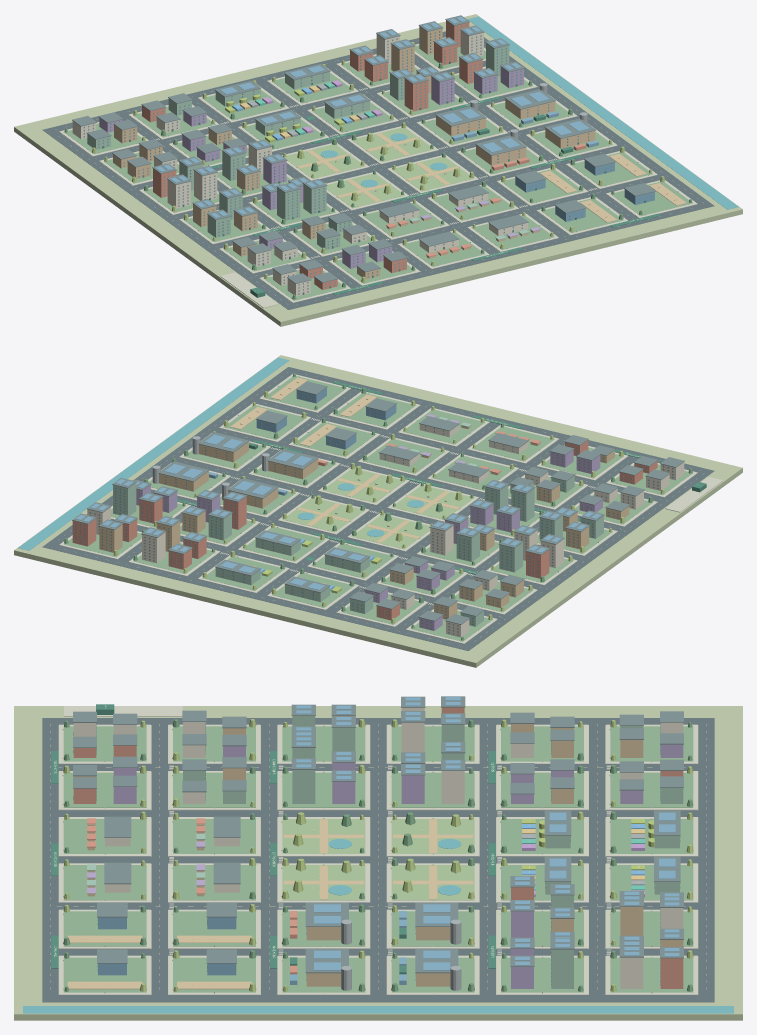
The model's file is ecomitra-city.glb.
The picture shows the model from 3 angles, top to bottom: view 1: azimuth 30°, elevation 25°; view 2: azimuth 150°, elevation 25°; view 3: azimuth 270°, elevation 25°; orthographic projection. The views are drawn at different scales.
Parts seen in each view (by area): view 1: infrastructure__asphalt, infrastructure__ground, 05 Central Gardens__park, 02 Market Quarter__grass, 03 Canal Walk__grass, infrastructure__water, 08 Circular Hub__grass, 04 Learning Campus__mint, 01 Willow Homes__roof, 07 Old Town__roof, 09 Solar Heights__coral, 06 Maker Works__grass (+47 smaller); view 2: infrastructure__asphalt, infrastructure__ground, 05 Central Gardens__park, 02 Market Quarter__grass, 03 Canal Walk__grass, 08 Circular Hub__grass, infrastructure__water, 04 Learning Campus__mint, 07 Old Town__roof, 01 Willow Homes__roof, 09 Solar Heights__coral, 07 Old Town__grass (+49 smaller); view 3: infrastructure__asphalt, infrastructure__ground, 05 Central Gardens__park, 02 Market Quarter__grass, 03 Canal Walk__grass, 08 Circular Hub__grass, 07 Old Town__grass, 06 Maker Works__grass, 04 Learning Campus__grass, infrastructure__water, 01 Willow Homes__grass, 09 Solar Heights__grass (+50 smaller).
Boxes of the visible parts, x1,y1,x2,y2 form: infrastructure__asphalt: [42, 26, 714, 309]; infrastructure__ground: [14, 14, 742, 326]; 05 Central Gardens__park: [284, 127, 474, 208]; 02 Market Quarter__grass: [363, 186, 554, 266]; 03 Canal Walk__grass: [501, 152, 692, 232]; infrastructure__water: [467, 16, 738, 209]; 08 Circular Hub__grass: [202, 73, 394, 149]; 04 Learning Campus__mint: [179, 151, 326, 237]; 01 Willow Homes__roof: [232, 213, 407, 283]; 07 Old Town__roof: [72, 93, 247, 167]; 09 Solar Heights__coral: [350, 20, 482, 111]; 06 Maker Works__grass: [421, 102, 612, 174]; infrastructure__asphalt: [42, 367, 714, 650]; infrastructure__ground: [14, 355, 742, 667]; 05 Central Gardens__park: [282, 468, 474, 549]; 02 Market Quarter__grass: [362, 410, 554, 490]; 03 Canal Walk__grass: [224, 376, 415, 456]; 08 Circular Hub__grass: [202, 527, 393, 607]; infrastructure__water: [18, 357, 289, 550]; 04 Learning Campus__mint: [456, 485, 603, 572]; 07 Old Town__roof: [349, 556, 524, 624]; 01 Willow Homes__roof: [509, 435, 684, 511]; 09 Solar Heights__coral: [72, 497, 246, 569]; 07 Old Town__grass: [341, 564, 532, 641]; infrastructure__asphalt: [42, 718, 714, 1002]; infrastructure__ground: [14, 706, 742, 1020]; 05 Central Gardens__park: [282, 819, 474, 900]; 02 Market Quarter__grass: [63, 819, 255, 900]; 03 Canal Walk__grass: [63, 911, 255, 992]; 08 Circular Hub__grass: [501, 819, 693, 900]; 07 Old Town__grass: [501, 726, 693, 807]; 06 Maker Works__grass: [282, 911, 474, 992]; 04 Learning Campus__grass: [282, 726, 474, 807]; infrastructure__water: [23, 1006, 733, 1013]; 01 Willow Homes__grass: [63, 726, 255, 807]; 09 Solar Heights__grass: [501, 911, 693, 992].
Size of the model in its own units: 800 by 58.09 by 800.
